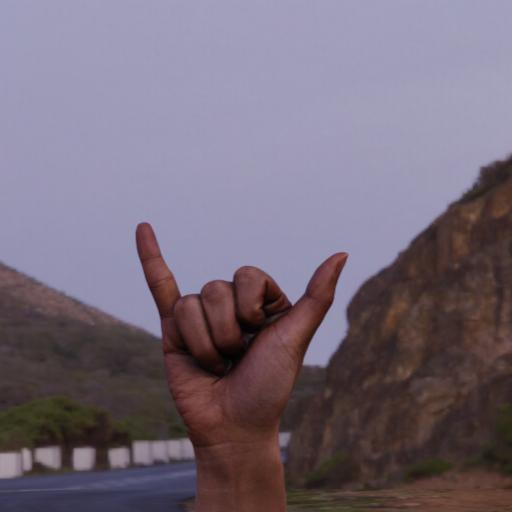Y: (135, 219, 354, 439)
